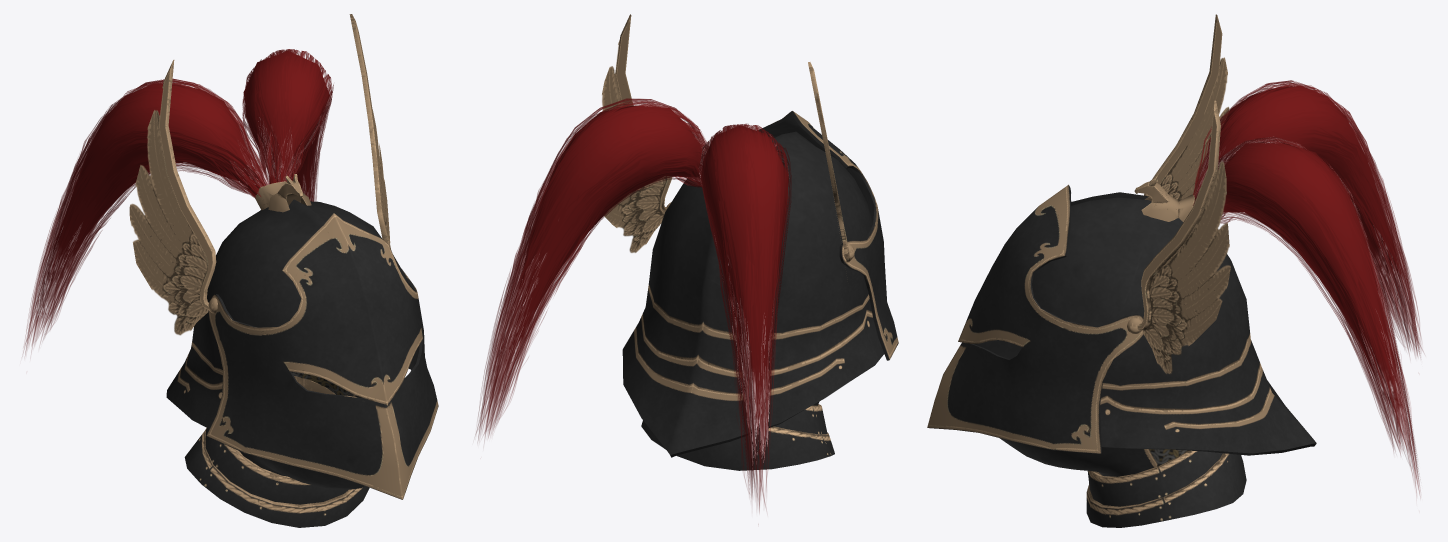
The model's file is griffin-sallet.glb.
The picture shows the model from 3 angles, left to right: view 1: azimuth 30°, elevation 25°; view 2: azimuth 150°, elevation 25°; view 3: azimuth 270°, elevation 25°; orthographic projection. The views are drawn at different scales.
Visible parts, largest first — view 1: PIECE_griffin-sallet; view 2: PIECE_griffin-sallet; view 3: PIECE_griffin-sallet.
Boxes of the visible parts, x1,y1,x2,y2 form: PIECE_griffin-sallet: [23, 14, 438, 527]; PIECE_griffin-sallet: [475, 14, 898, 512]; PIECE_griffin-sallet: [927, 14, 1423, 527].
Bounding box in the file's own units: 1 × 1.4 × 1.4.
Materials: 1 (1 with a texture image).
